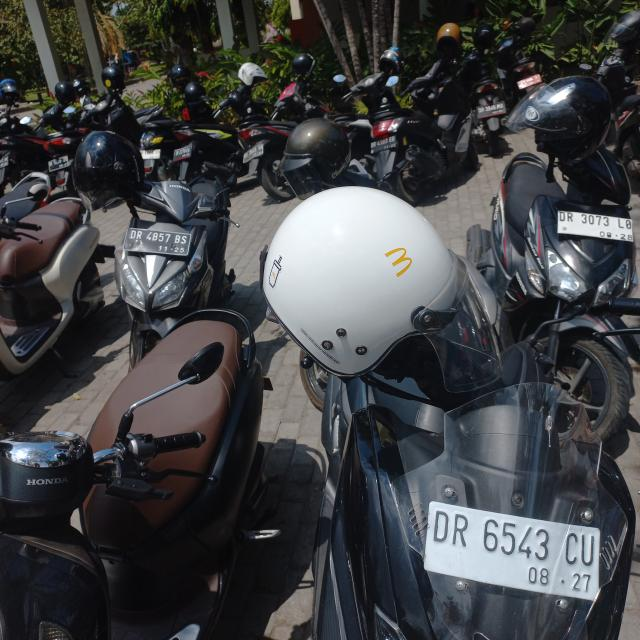plate: (422, 501, 600, 603), (554, 200, 636, 244), (122, 226, 192, 257)
